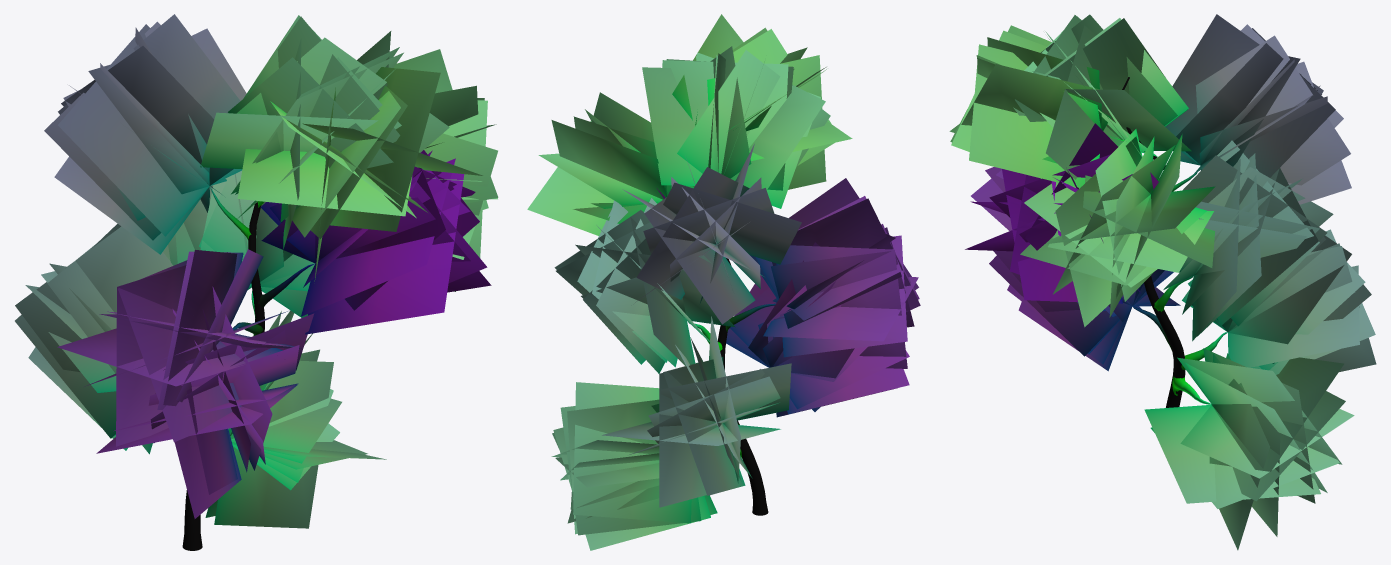
Rendered from URP_P6_Tree_4_LOD_0.fbx.
The picture shows the model from 3 angles, left to right: view 1: azimuth 30°, elevation 25°; view 2: azimuth 150°, elevation 25°; view 3: azimuth 270°, elevation 25°; orthographic projection. The views are drawn at different scales.
Visible parts, largest first — view 1: Tree_4_LOD_0; view 2: Tree_4_LOD_0; view 3: Tree_4_LOD_0.
Boxes of the visible parts, <box> form: Tree_4_LOD_0: <box>15,14,498,550</box>; Tree_4_LOD_0: <box>527,14,920,550</box>; Tree_4_LOD_0: <box>949,14,1376,550</box>.
Size of the model in its own units: 467 by 617 by 476.
